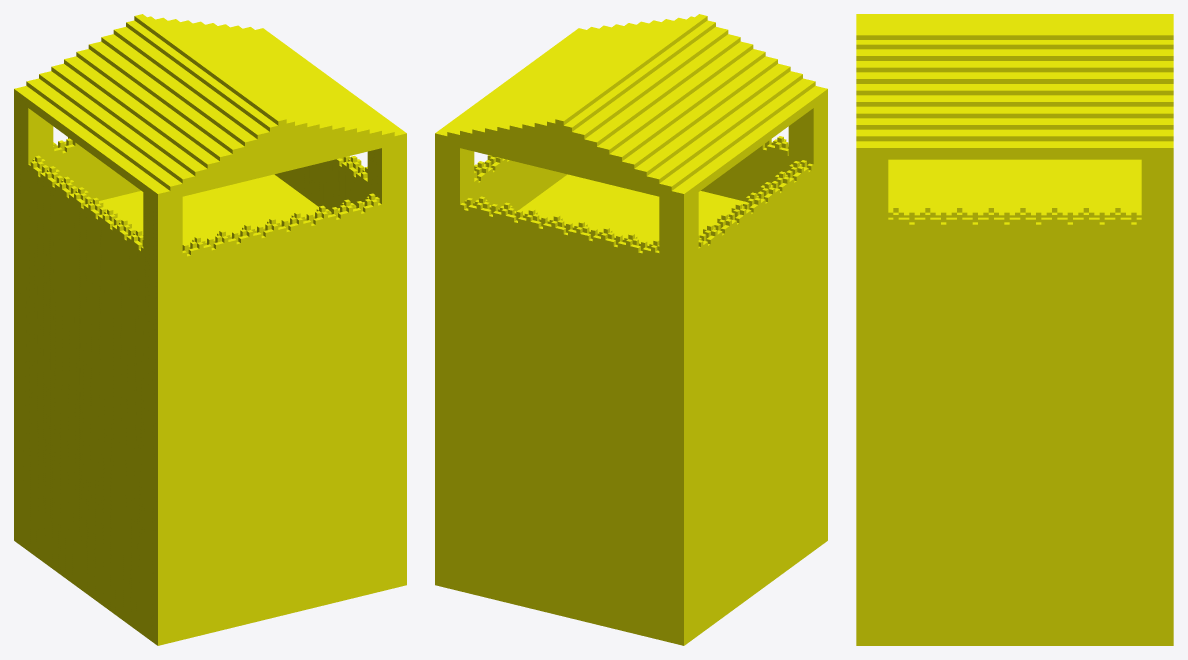
Rendered from voxel-rangers-tower.glb.
The picture shows the model from 3 angles, left to right: view 1: azimuth 30°, elevation 25°; view 2: azimuth 150°, elevation 25°; view 3: azimuth 270°, elevation 25°; orthographic projection. The views are drawn at different scales.
Parts seen in each view (by area): view 1: ObjObject.007; view 2: ObjObject.007; view 3: ObjObject.007.
Boxes of the visible parts, x1,y1,x2,y2 form: ObjObject.007: (14,14,406,645); ObjObject.007: (435,14,827,645); ObjObject.007: (856,14,1173,645).
Size of the model in its own units: 6 by 11.4 by 6.
